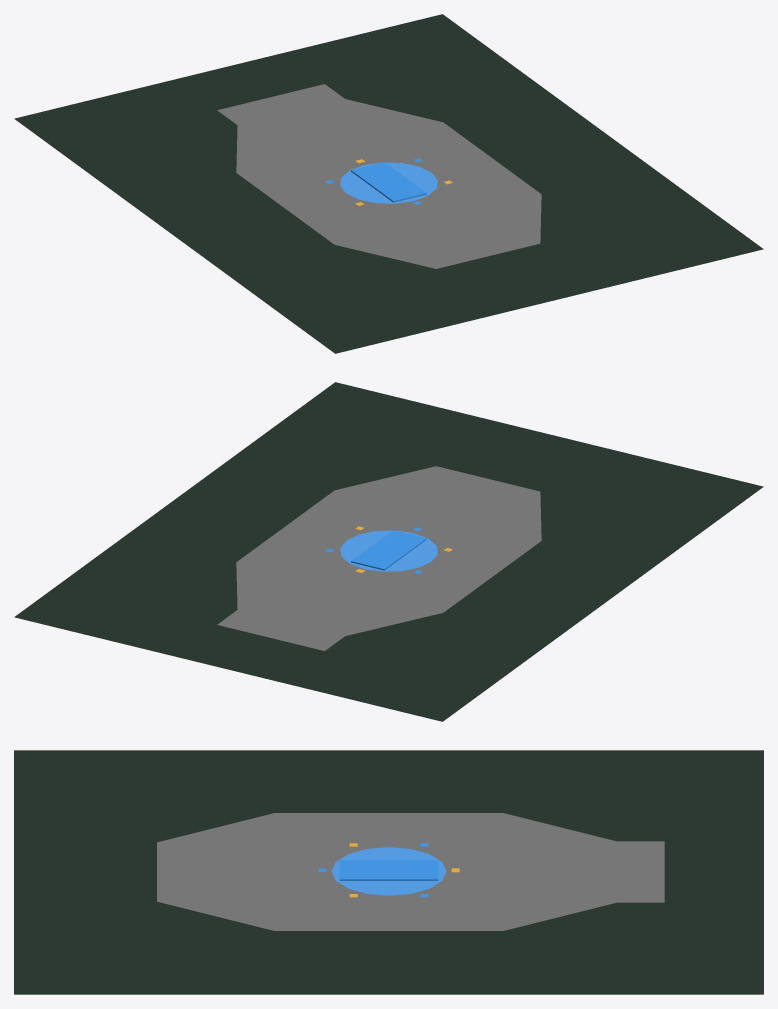
Rendered from base_layout.obj.
3 views of the same model, one above another, from view 1: azimuth 30°, elevation 25°; view 2: azimuth 150°, elevation 25°; view 3: azimuth 270°, elevation 25° (orthographic). The views are drawn at different scales.
Visible parts, largest first — view 1: HOME_ground_24x24, 1, HOME_base_circle_radius_3, home_boy_body_protect; view 2: HOME_ground_24x24, 1, HOME_base_circle_radius_3, home_boy_body_protect; view 3: HOME_ground_24x24, 1, HOME_base_circle_radius_3, home_boy_body_protect.
Part boxes in pixels (x1=…): HOME_ground_24x24: x1=14, y1=14, x2=763, y2=353; 1: x1=217, y1=84, x2=541, y2=268; HOME_base_circle_radius_3: x1=340, y1=162, x2=437, y2=203; home_boy_body_protect: x1=351, y1=162, x2=426, y2=202; HOME_ground_24x24: x1=14, y1=382, x2=763, y2=721; 1: x1=217, y1=466, x2=541, y2=650; HOME_base_circle_radius_3: x1=340, y1=530, x2=437, y2=571; home_boy_body_protect: x1=351, y1=530, x2=426, y2=570; HOME_ground_24x24: x1=14, y1=750, x2=763, y2=994; 1: x1=157, y1=813, x2=664, y2=930; HOME_base_circle_radius_3: x1=331, y1=847, x2=446, y2=895; home_boy_body_protect: x1=339, y1=860, x2=438, y2=880.
Size of the model in its own units: 18.48 by 0.095 by 24.
